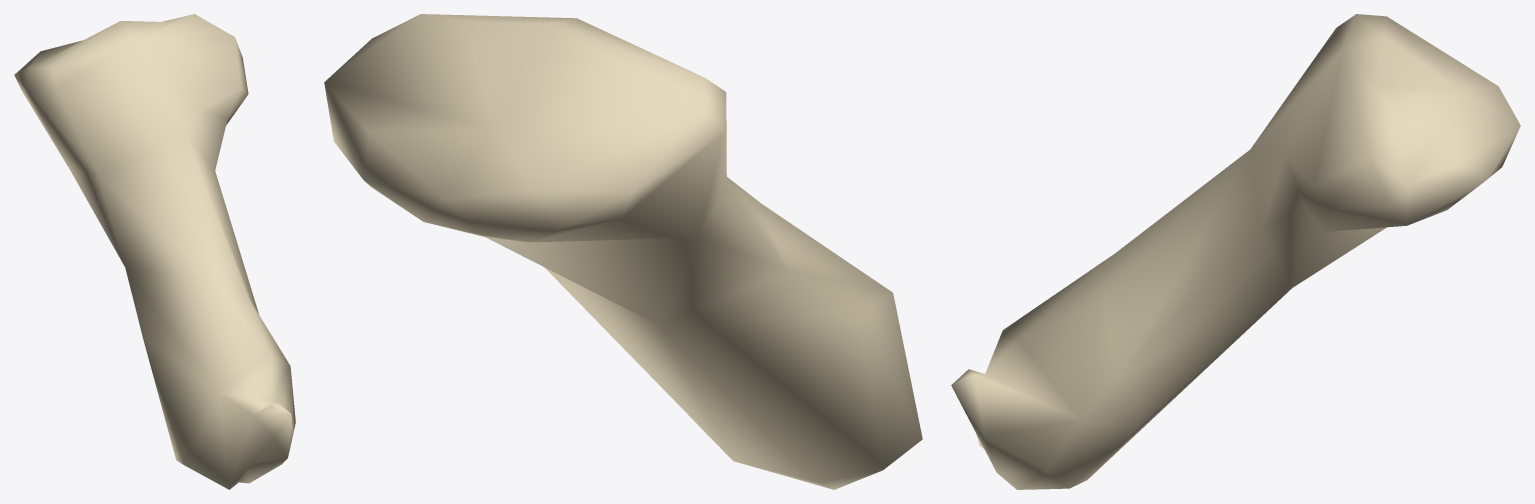
Rendered from esqueleto-distal-phalanx-of-fifth-finger-of-hand-l.glb.
The picture shows the model from 3 angles, left to right: view 1: azimuth 30°, elevation 25°; view 2: azimuth 150°, elevation 25°; view 3: azimuth 270°, elevation 25°; orthographic projection. The views are drawn at different scales.
Parts seen in each view (by area): view 1: Distal phalanx of fifth finger of hand.l; view 2: Distal phalanx of fifth finger of hand.l; view 3: Distal phalanx of fifth finger of hand.l.
Part boxes in pixels (left/top/right/bottom): Distal phalanx of fifth finger of hand.l: left=14, top=14, right=295, bottom=489; Distal phalanx of fifth finger of hand.l: left=324, top=14, right=922, bottom=489; Distal phalanx of fifth finger of hand.l: left=951, top=14, right=1520, bottom=489.
Bounding box in the file's own units: 0.00858 × 0.0131 × 0.0148.
